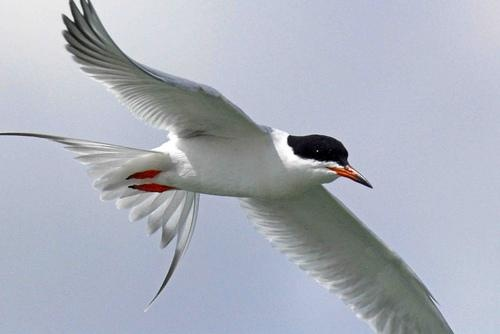bird: (8, 1, 457, 334)
